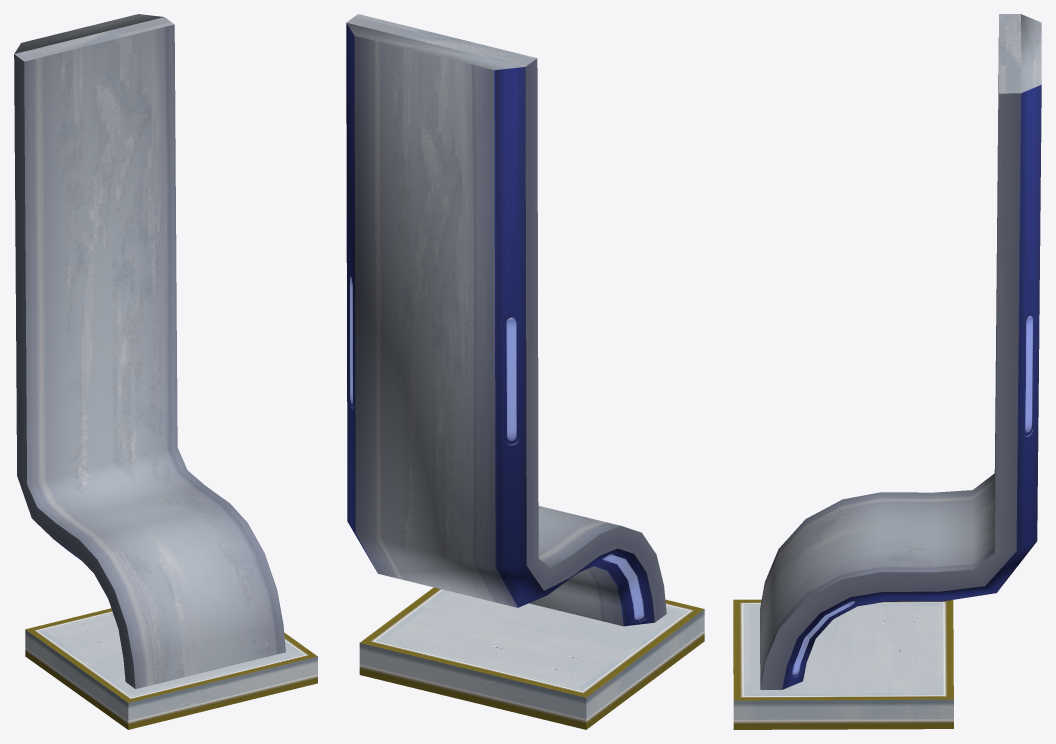
The model's file is fashion-stand.glb.
3 renders of one model, left to right at view 1: azimuth 30°, elevation 25°; view 2: azimuth 150°, elevation 25°; view 3: azimuth 270°, elevation 25°, orthographic. The views are drawn at different scales.
Visible parts, largest first — view 1: node_Floor1_Benches; view 2: node_Floor1_Benches; view 3: node_Floor1_Benches.
Boxes of the visible parts, <box> form: node_Floor1_Benches: <box>14,14,317,729</box>; node_Floor1_Benches: <box>346,14,704,729</box>; node_Floor1_Benches: <box>733,14,1041,729</box>.
Size of the model in its own units: 1.27 by 3.63 by 1.62.
4 materials, 4 textured.
